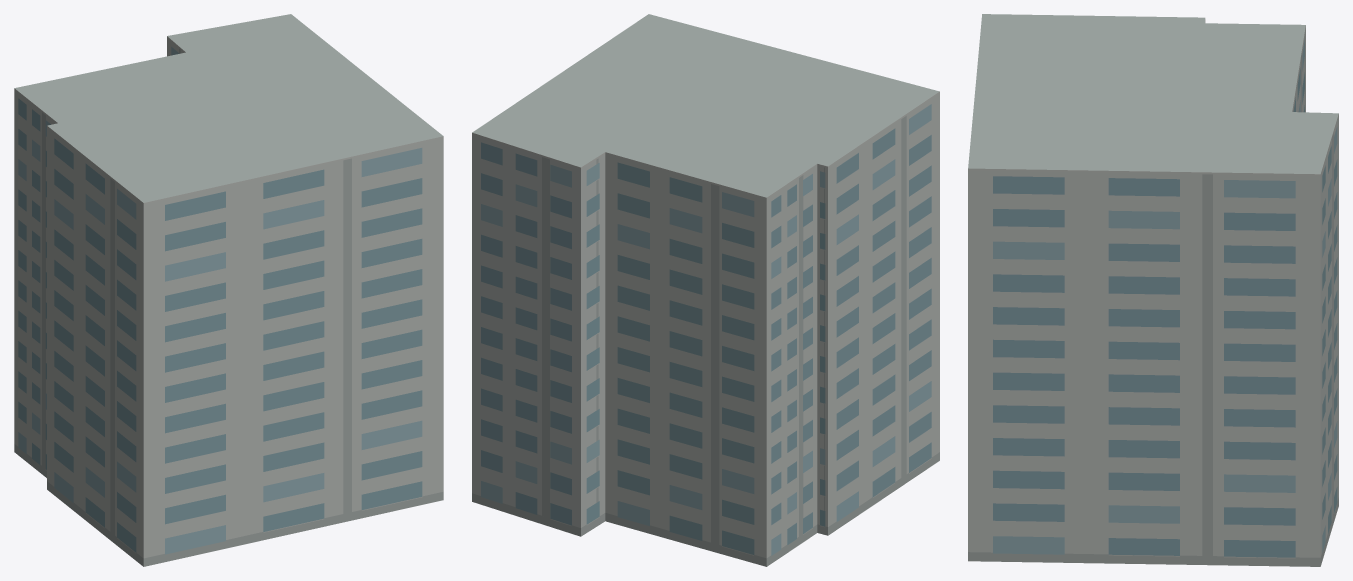
File: residential-c9316974-010f-4688-9f25-47e5d456d81d.glb
3 renders of one model, left to right at view 1: azimuth 30°, elevation 25°; view 2: azimuth 150°, elevation 25°; view 3: azimuth 270°, elevation 25°, orthographic. The views are drawn at different scales.
Parts seen in each view (by area): view 1: residential-c9316974-010f-4688-9f25-47e5d456d81d.tmp; view 2: residential-c9316974-010f-4688-9f25-47e5d456d81d.tmp; view 3: residential-c9316974-010f-4688-9f25-47e5d456d81d.tmp.
Part boxes in pixels (box(x1,y1,x2,y2)): residential-c9316974-010f-4688-9f25-47e5d456d81d.tmp: box(14, 14, 443, 566); residential-c9316974-010f-4688-9f25-47e5d456d81d.tmp: box(472, 14, 939, 566); residential-c9316974-010f-4688-9f25-47e5d456d81d.tmp: box(968, 14, 1338, 566).
Size of the model in its own units: 42.89 by 49 by 41.95.
